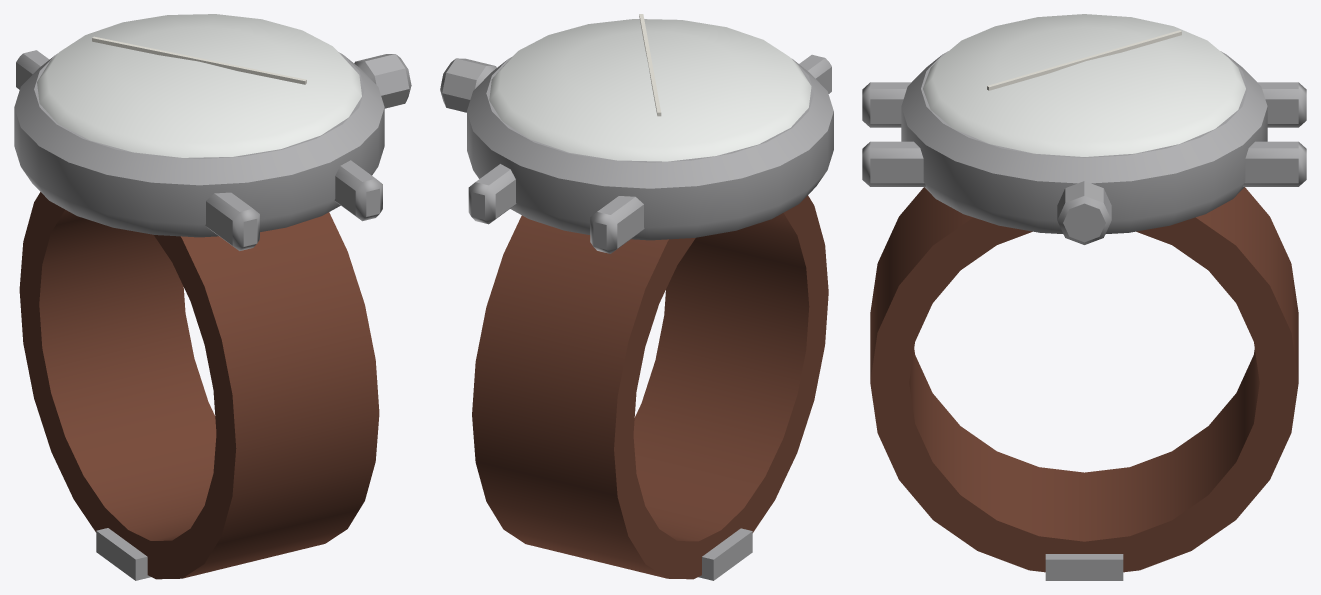
The model's file is wristwatch.glb.
The picture shows the model from 3 angles, left to right: view 1: azimuth 30°, elevation 25°; view 2: azimuth 150°, elevation 25°; view 3: azimuth 270°, elevation 25°; orthographic projection.
Parts seen in each view (by area): view 1: body; view 2: body; view 3: body.
Boxes of the visible parts, bbox=[...] form: body: bbox=[14, 14, 411, 580]; body: bbox=[440, 14, 833, 580]; body: bbox=[862, 14, 1306, 580].
Size of the model in its own units: 0.0212 by 0.0274 by 0.0228.
